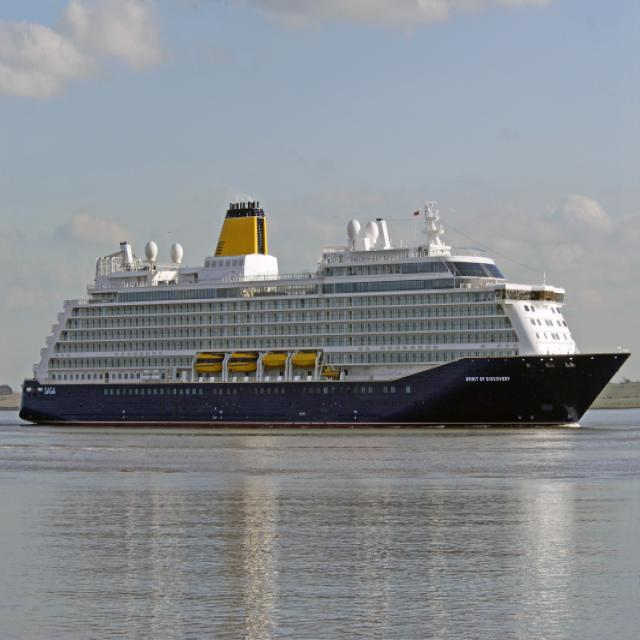cruises: (18, 193, 634, 439)
